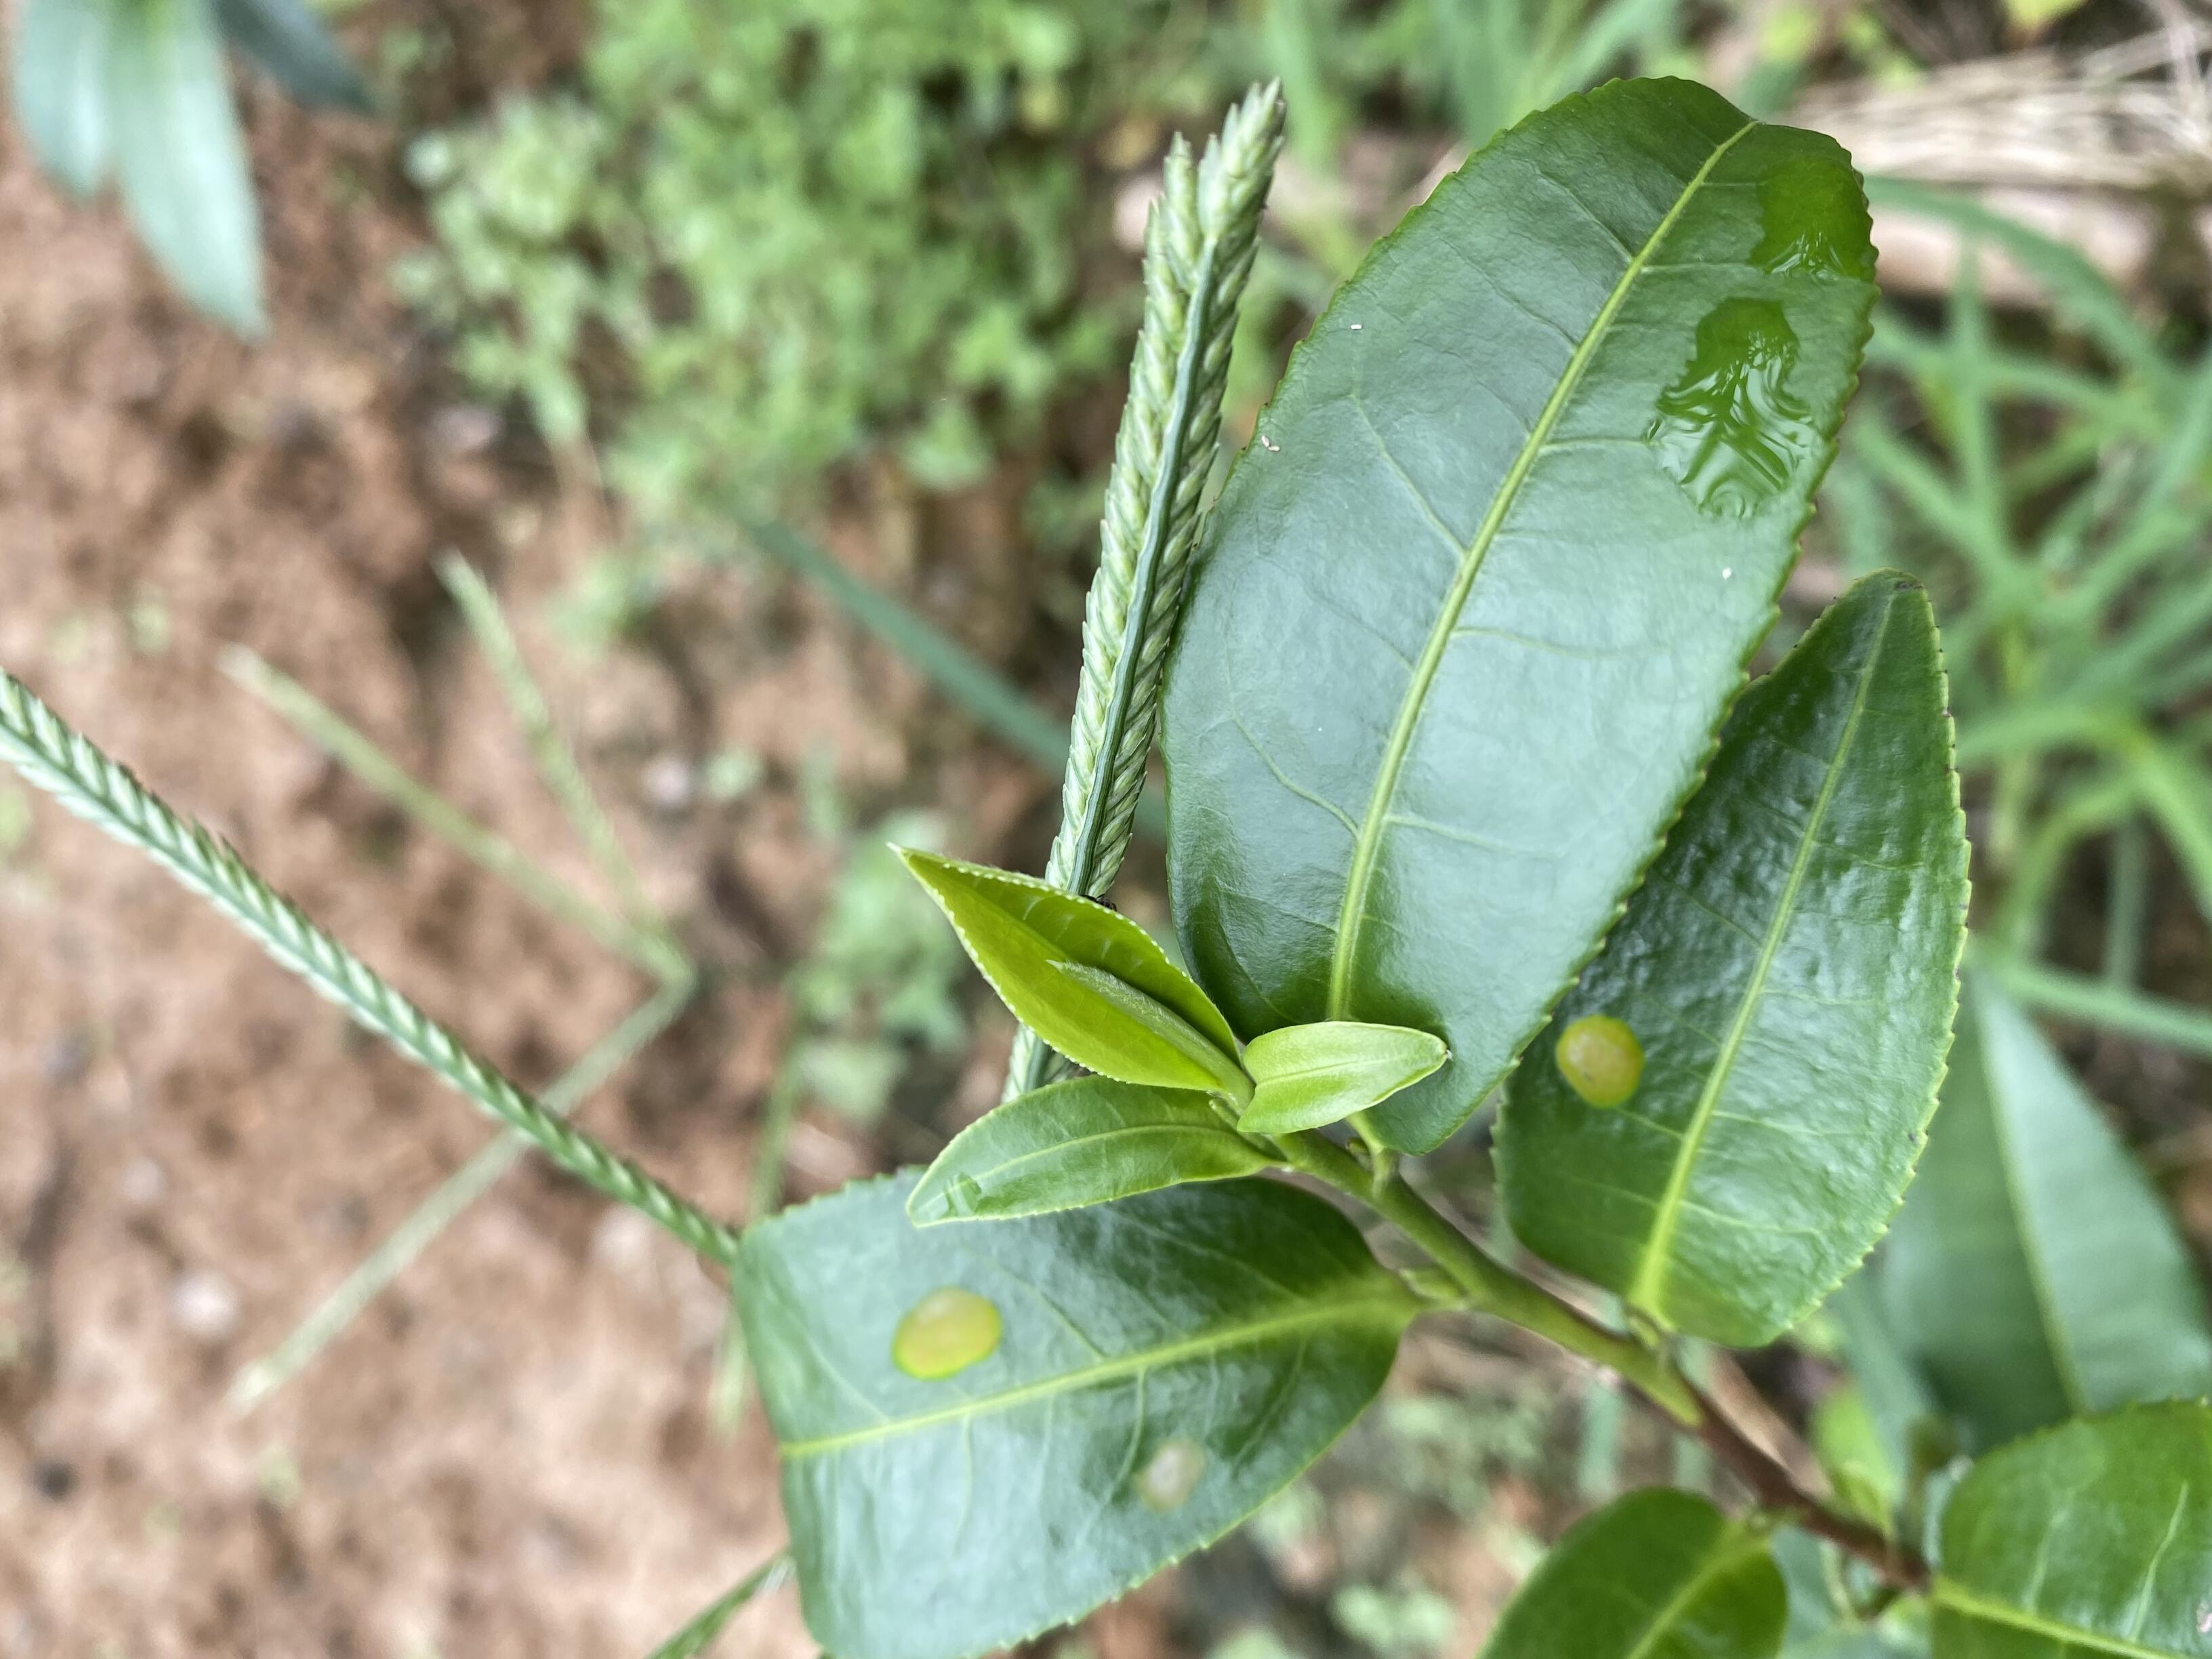chabing_high: (733, 1159, 1406, 1659)
chabing_low: (1487, 570, 1973, 1352)
healthy: (1162, 75, 1885, 1169), (888, 843, 1240, 1093), (906, 1077, 1268, 1230), (1240, 1021, 1444, 1136)
